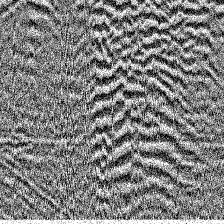cavities: (92, 0, 214, 189)
